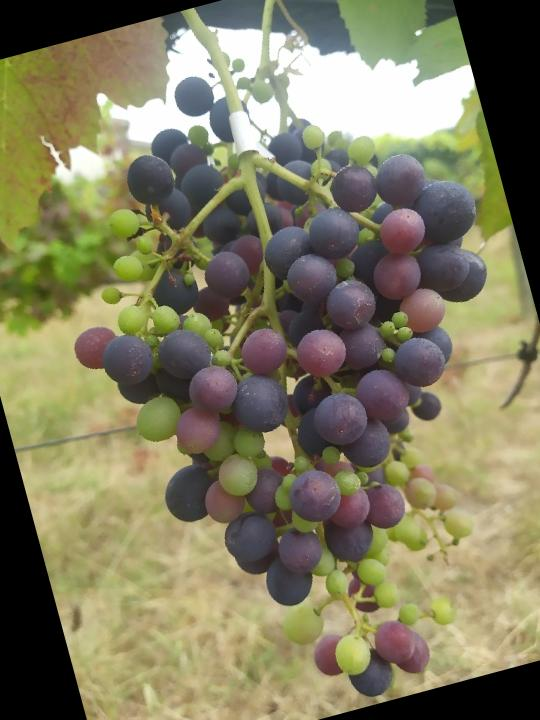grape: (11, 10, 540, 720)
